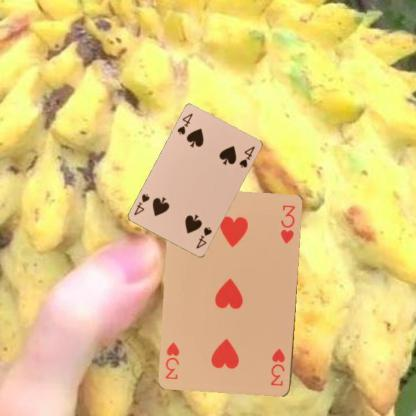3h: (268, 346, 287, 388)
4s: (194, 225, 213, 250), (175, 111, 194, 136)
